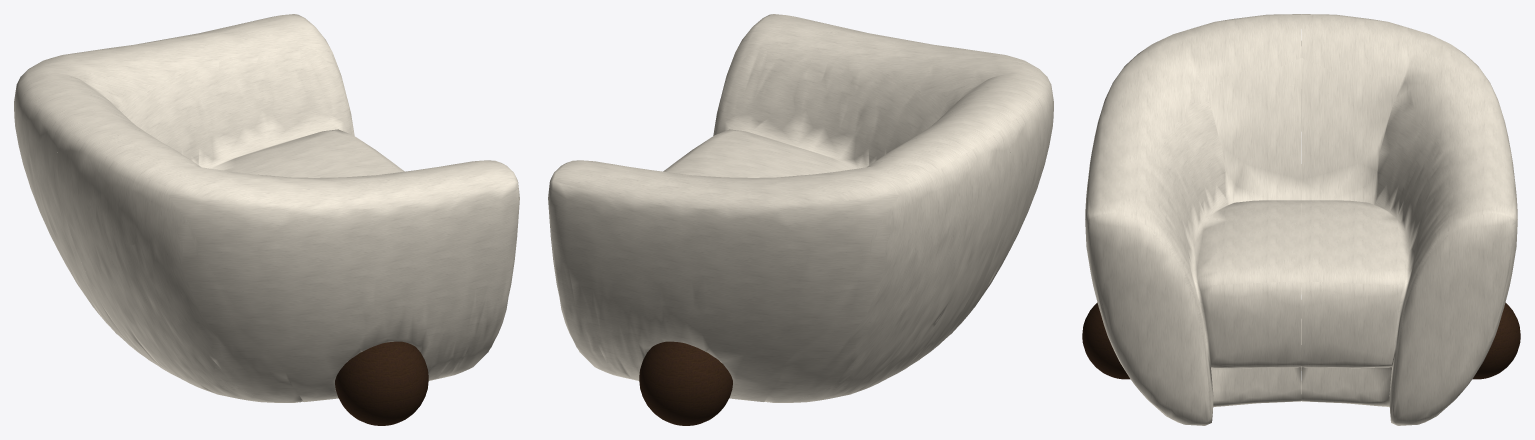
3 views of the same model, side by side, from view 1: azimuth 30°, elevation 25°; view 2: azimuth 150°, elevation 25°; view 3: azimuth 270°, elevation 25° (orthographic). The views are drawn at different scales.
Parts seen in each view (by area): view 1: Mesh4 Beige_Armchair___f8636701_1 Beige_Armchair__1_2 Model, Mesh3 Group2 Beige_Armchair__1_2 Model; view 2: Mesh4 Beige_Armchair___f8636701_1 Beige_Armchair__1_2 Model, Mesh3 Group2 Beige_Armchair__1_2 Model; view 3: Mesh4 Beige_Armchair___f8636701_1 Beige_Armchair__1_2 Model, Mesh3 Group2 Beige_Armchair__1_2 Model.
Boxes of the visible parts, <box> form: Mesh4 Beige_Armchair___f8636701_1 Beige_Armchair__1_2 Model: <box>14,14,519,402</box>; Mesh3 Group2 Beige_Armchair__1_2 Model: <box>335,341,428,425</box>; Mesh4 Beige_Armchair___f8636701_1 Beige_Armchair__1_2 Model: <box>548,14,1053,402</box>; Mesh3 Group2 Beige_Armchair__1_2 Model: <box>639,341,732,425</box>; Mesh4 Beige_Armchair___f8636701_1 Beige_Armchair__1_2 Model: <box>1085,14,1517,425</box>; Mesh3 Group2 Beige_Armchair__1_2 Model: <box>1082,302,1520,379</box>.
Bounding box in the file's own units: 1.06 × 0.7985 × 1.2.
Materials: 2 (2 with a texture image).
